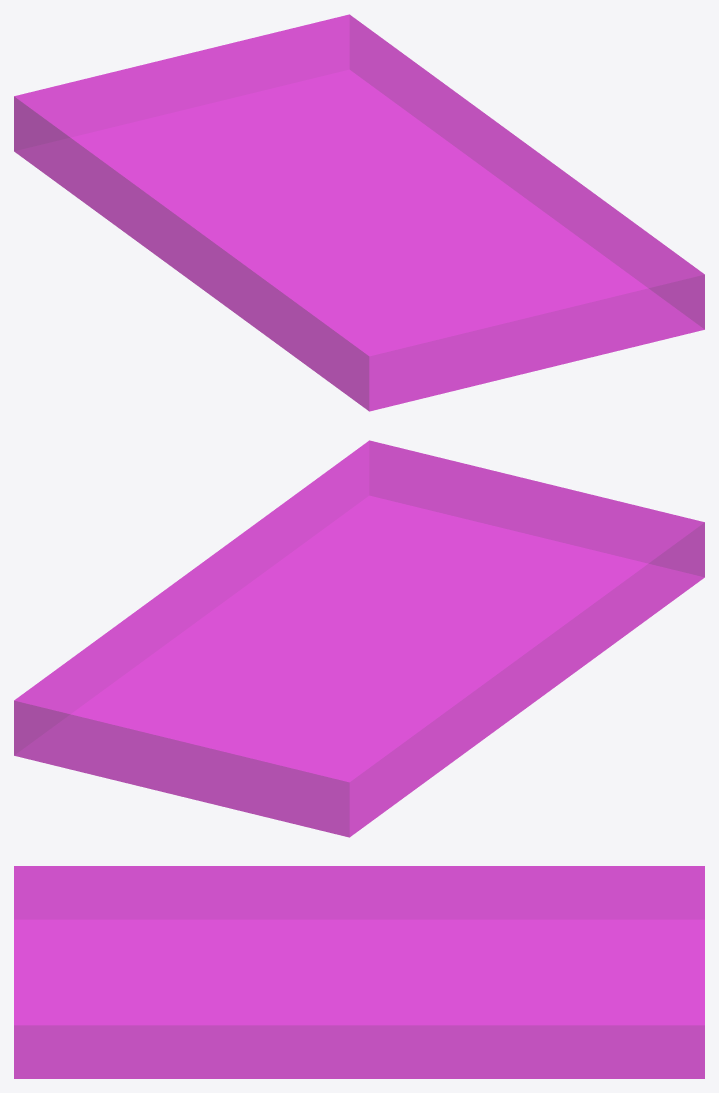
Rendered from SM_Veh_Ship_L_Mast_Back_02_Platform_01_Collision.fbx.
The picture shows the model from 3 angles, top to bottom: view 1: azimuth 30°, elevation 25°; view 2: azimuth 150°, elevation 25°; view 3: azimuth 270°, elevation 25°; orthographic projection. The views are drawn at different scales.
Visible parts, largest first — view 1: SM_Veh_Ship_L_Mast_Back_02_Platform_01_Collision; view 2: SM_Veh_Ship_L_Mast_Back_02_Platform_01_Collision; view 3: SM_Veh_Ship_L_Mast_Back_02_Platform_01_Collision.
Part boxes in pixels (x1,y1,x2,y2): SM_Veh_Ship_L_Mast_Back_02_Platform_01_Collision: [14, 14, 704, 411]; SM_Veh_Ship_L_Mast_Back_02_Platform_01_Collision: [14, 440, 704, 837]; SM_Veh_Ship_L_Mast_Back_02_Platform_01_Collision: [14, 866, 704, 1078].
Size of the model in its own units: 218 by 34.21 by 400.
